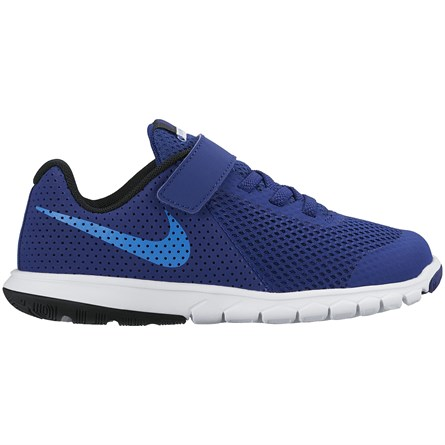nike: (30, 206, 193, 270)
